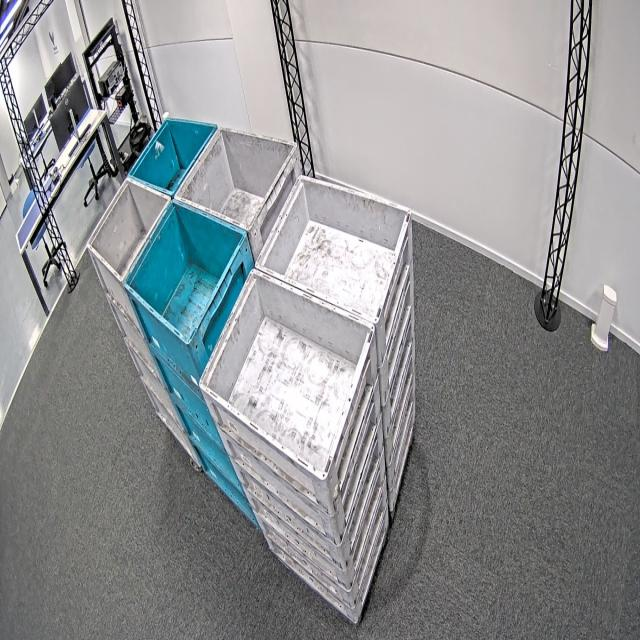Roll3G: (198, 266, 375, 478), (254, 175, 413, 325)
Roll4G: (174, 126, 298, 232), (86, 177, 172, 283)
RollB4: (124, 198, 248, 346), (126, 116, 218, 195)
